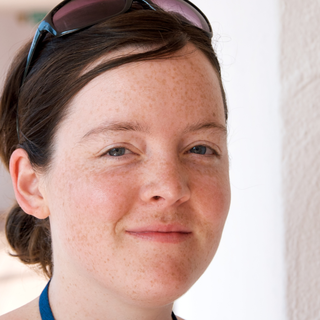eye: (92, 138, 145, 166), (177, 136, 225, 163)
